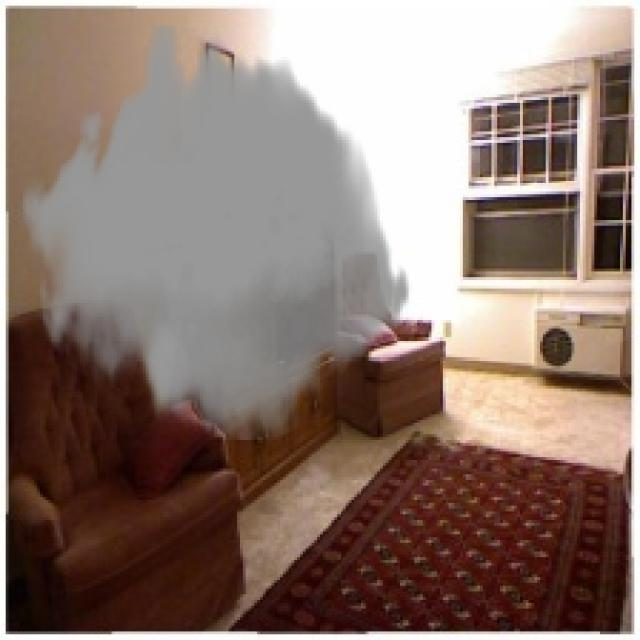smoke: (20, 26, 411, 440)
